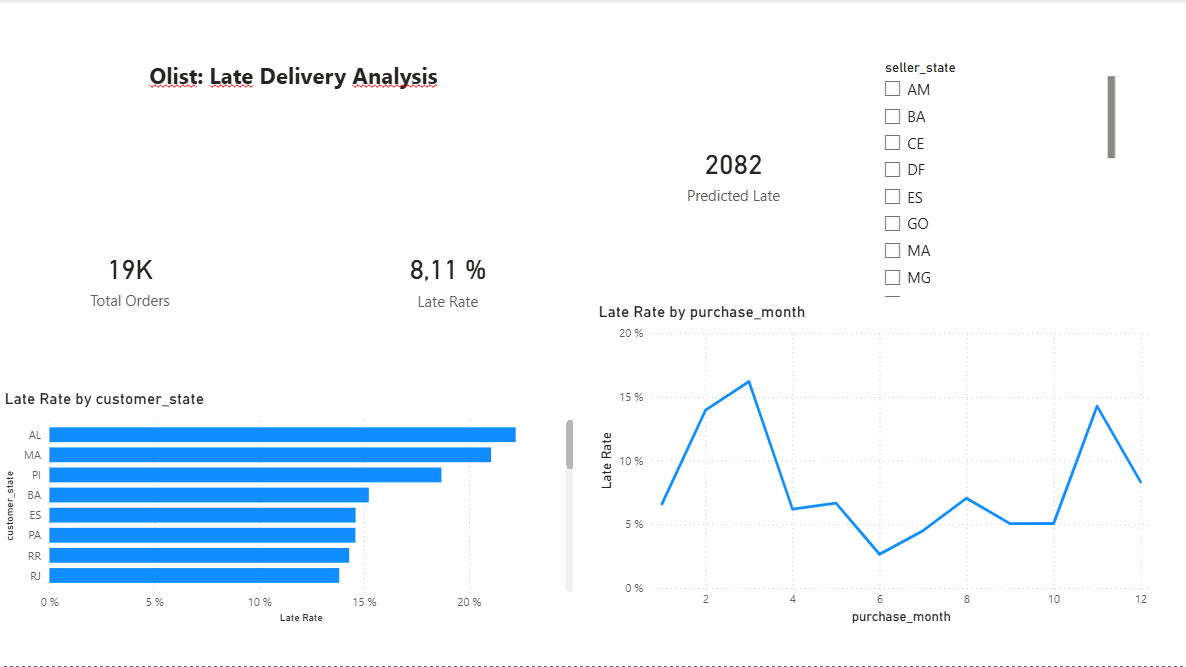

The page's visual inventory and layout, read from the dashboard file:
{"tool":"powerbi","page":{"name":"Page 1","canvas":[1280,720],"ordinal":0},"visuals":[{"type":"card","fields":{"Values":["predictions.Total Orders"]},"box":[10,0,280,280],"z":0},{"type":"card","fields":{"Values":["predictions.Late Rate"]},"box":[275.9,0,279.7,281.6],"z":1},{"type":"card","fields":{"Values":["predictions.Predicted Late"]},"box":[555.6,0,300.5,279.7],"z":2},{"type":"clusteredBarChart","fields":{"Category":["predictions.customer_state"],"Y":["predictions.Late Rate"]},"box":[0,294.8,623.6,383.6],"z":3},{"type":"lineChart","fields":{"Category":["predictions.purchase_month"],"Y":["predictions.Late Rate"]},"box":[640.6,326.9,604.7,351.5],"z":4},{"type":"slicer","fields":{"Values":["predictions.seller_state"]},"box":[943,60.5,266.5,266.5],"z":5}]}

Visuals, with their boxes in screenshot pixels (x1, y1, x2, y2), scaled from the page's 1280x720 canvas onto the 1186x667 screenshot:
card - predictions.Total Orders: [9, 0, 269, 259]
card - predictions.Late Rate: [256, 0, 515, 261]
card - predictions.Predicted Late: [515, 0, 793, 259]
clusteredBarChart - predictions.customer_state x predictions.Late Rate: [0, 273, 578, 628]
lineChart - predictions.purchase_month x predictions.Late Rate: [594, 303, 1154, 628]
slicer - predictions.seller_state: [874, 56, 1121, 303]
